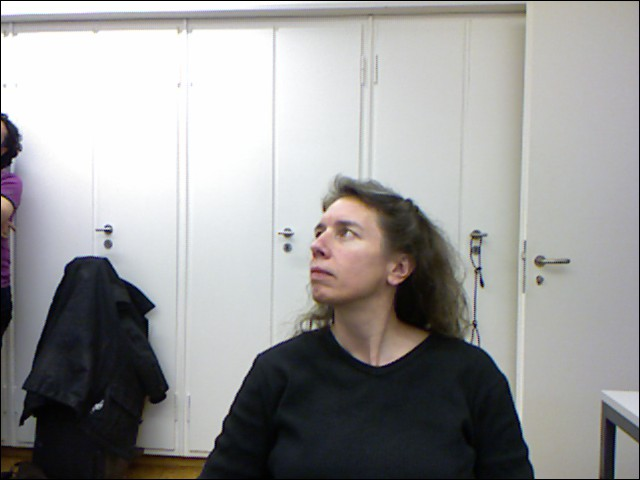deflection: (229, 190, 518, 435)
